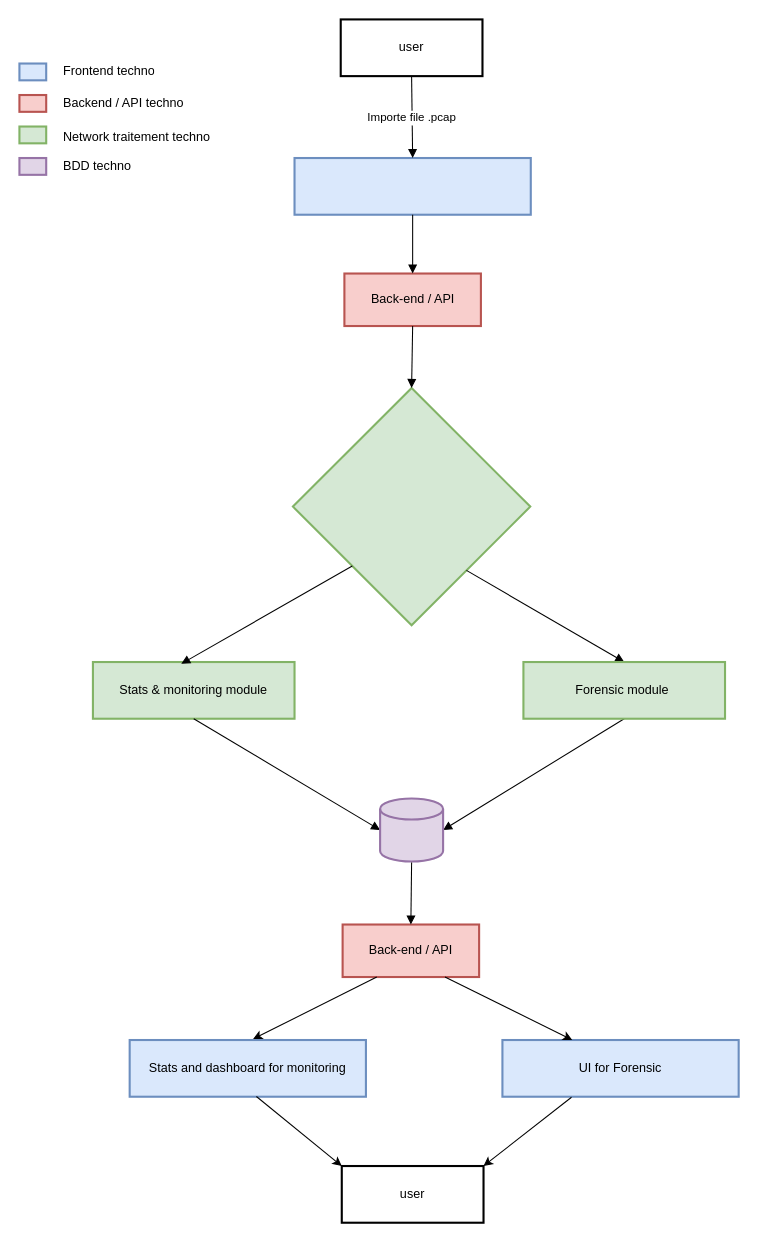
This 757x1241 diagram has some shape labels left out. Each missing label, with the centre of its shape:
Network flux data traitment: (411,506)
User Interface UI: (412,185)
